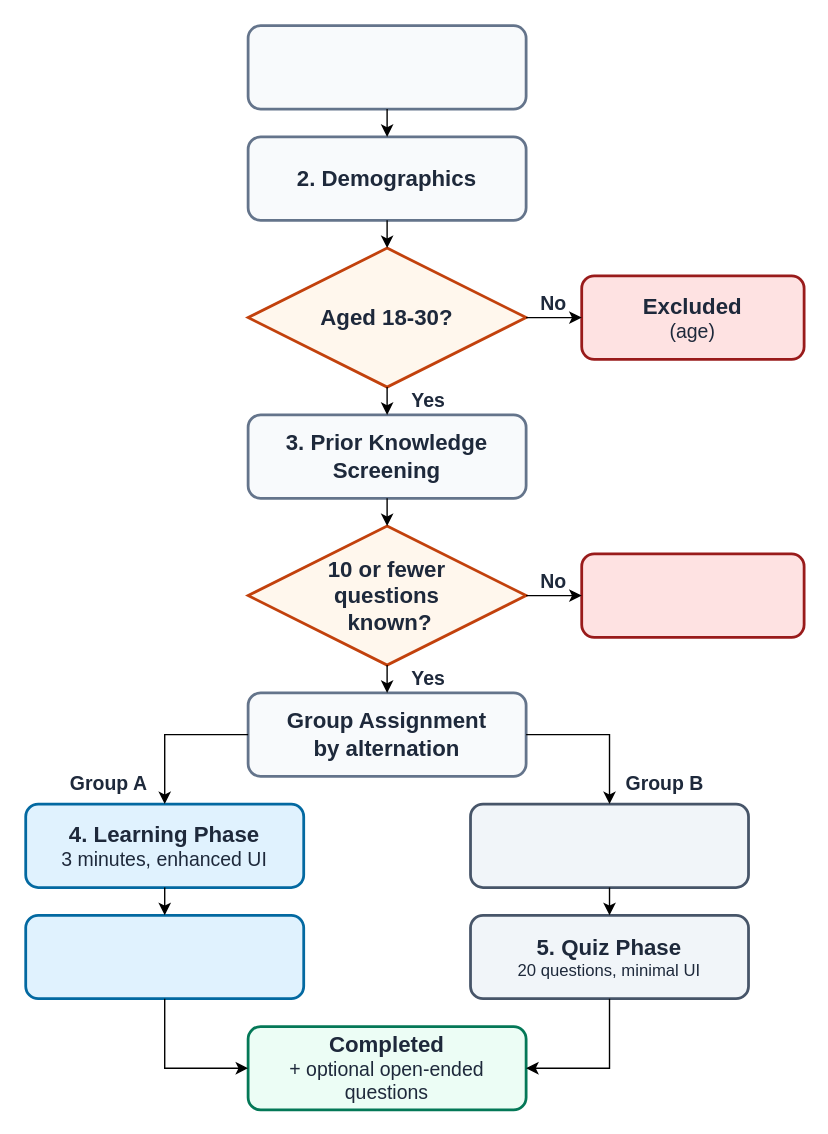
This 828x1134 diagram has some shape labels left out. The centre of each missing label's shape, as x and y in pixels:
1. Informed Consent: point (386, 67)
4. Learning Phase 3 minutes, minimal UI: point (608, 845)
5. Quiz Phase 20 questions, enhanced UI: point (164, 956)
Excluded (11+ known): point (692, 595)
